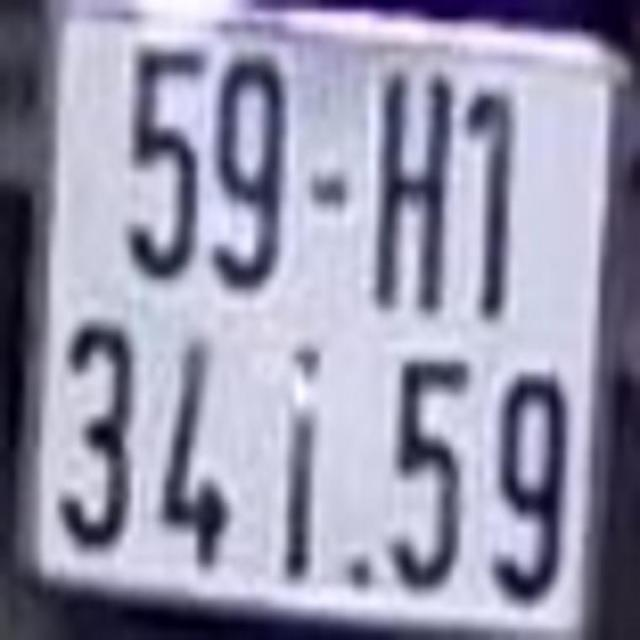1: (467, 93, 512, 314), (284, 346, 320, 581)
3: (58, 315, 131, 543)
4: (160, 339, 237, 568)
5: (386, 355, 471, 591), (129, 40, 194, 267)
9: (215, 50, 286, 295), (497, 365, 562, 602)
H: (379, 65, 448, 313)
